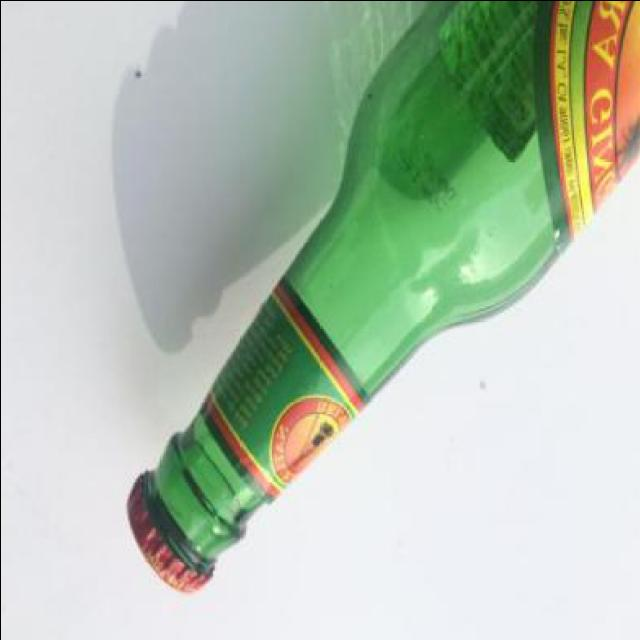kaca: (149, 0, 640, 561)
